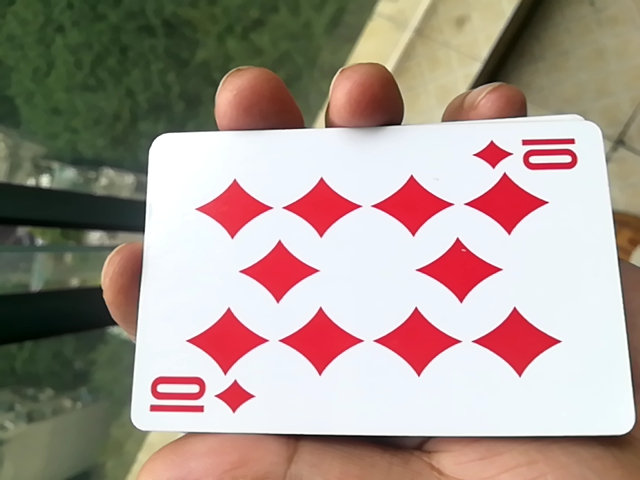fk 10: (122, 118, 628, 462)
